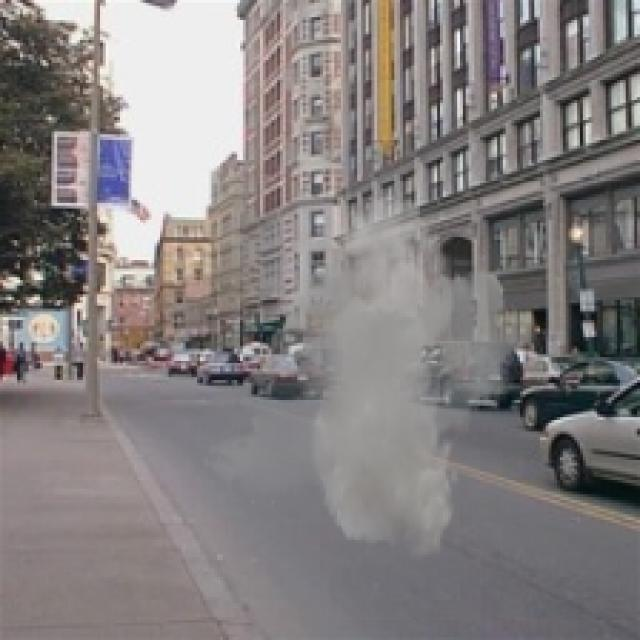Smoke: (200, 195, 549, 560)
